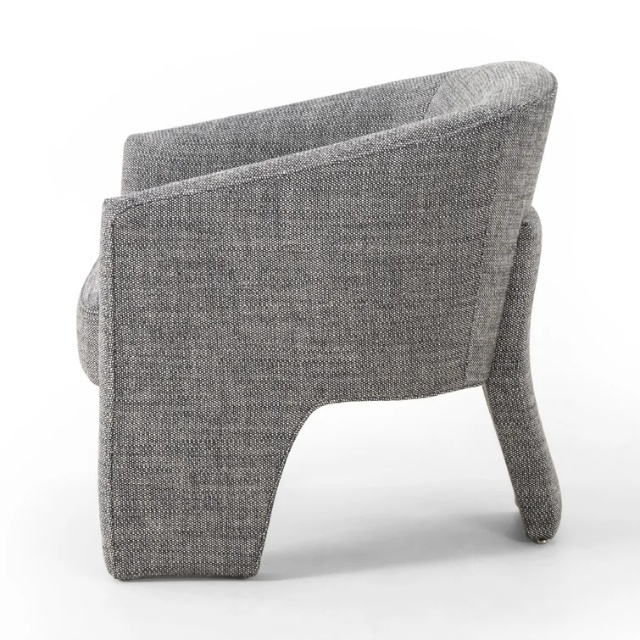obstacle: (77, 62, 560, 579)
